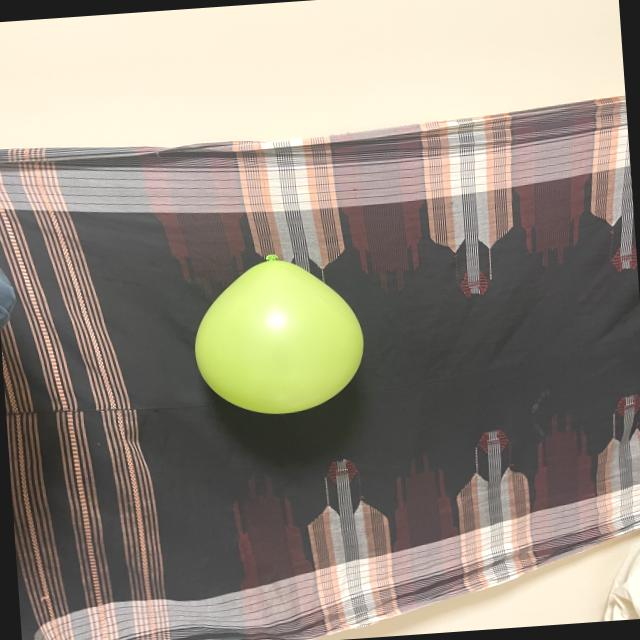balloon: (195, 254, 363, 414)
